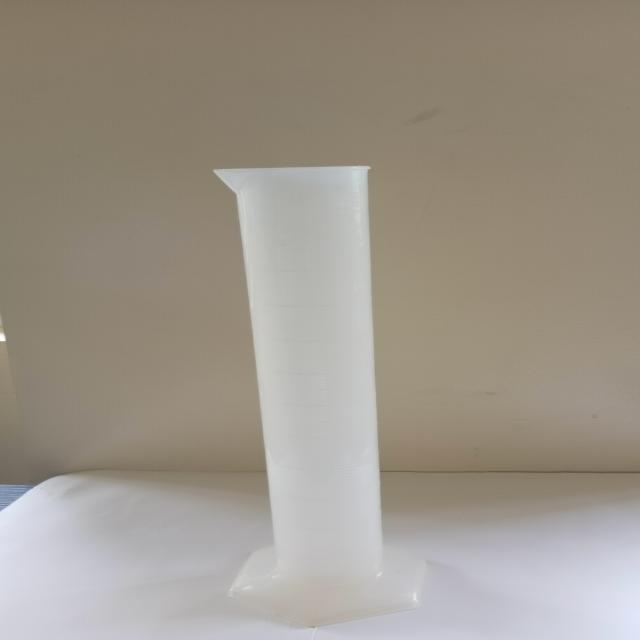graduated_cylinder: (204, 162, 439, 629)
